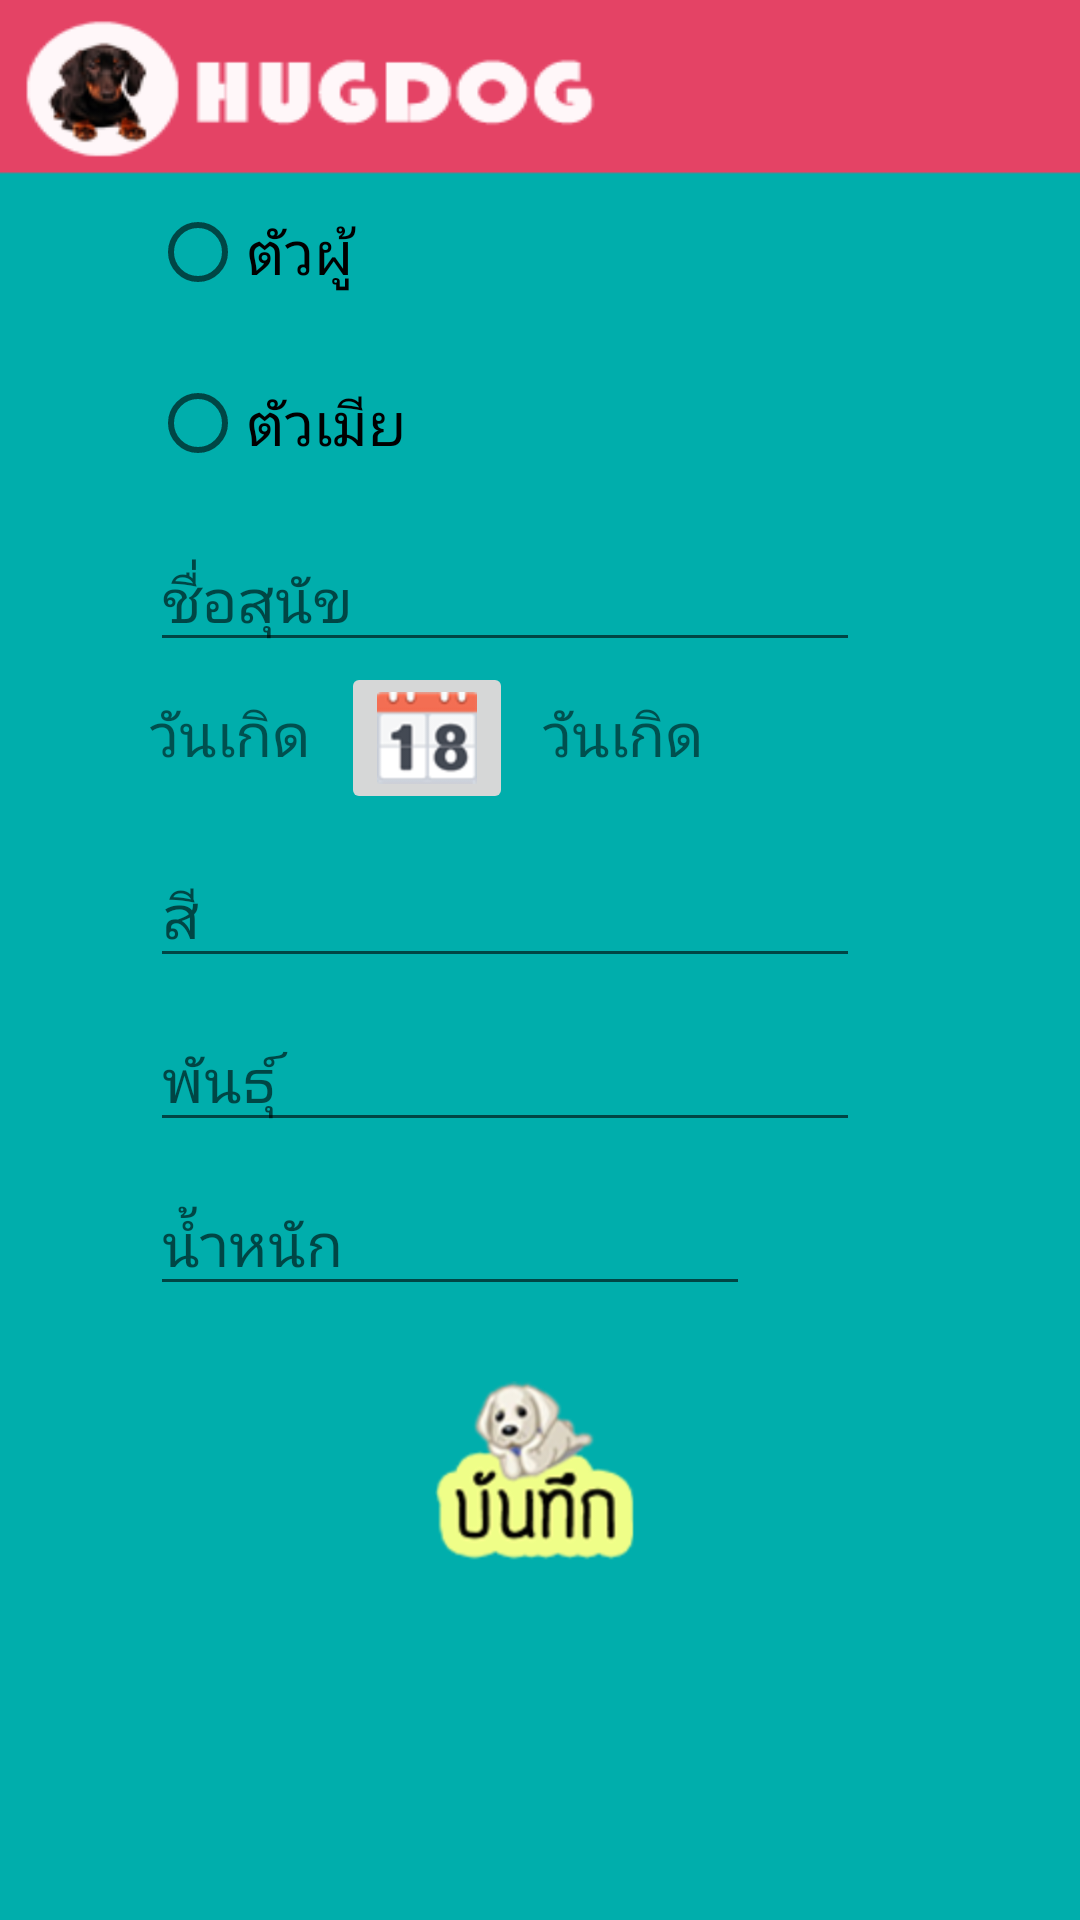

Named icons in this screenshot (1080px×1920px) and their bounding boxes, (x1, y1, x2, y2):
calendar: (353, 680, 501, 796)
